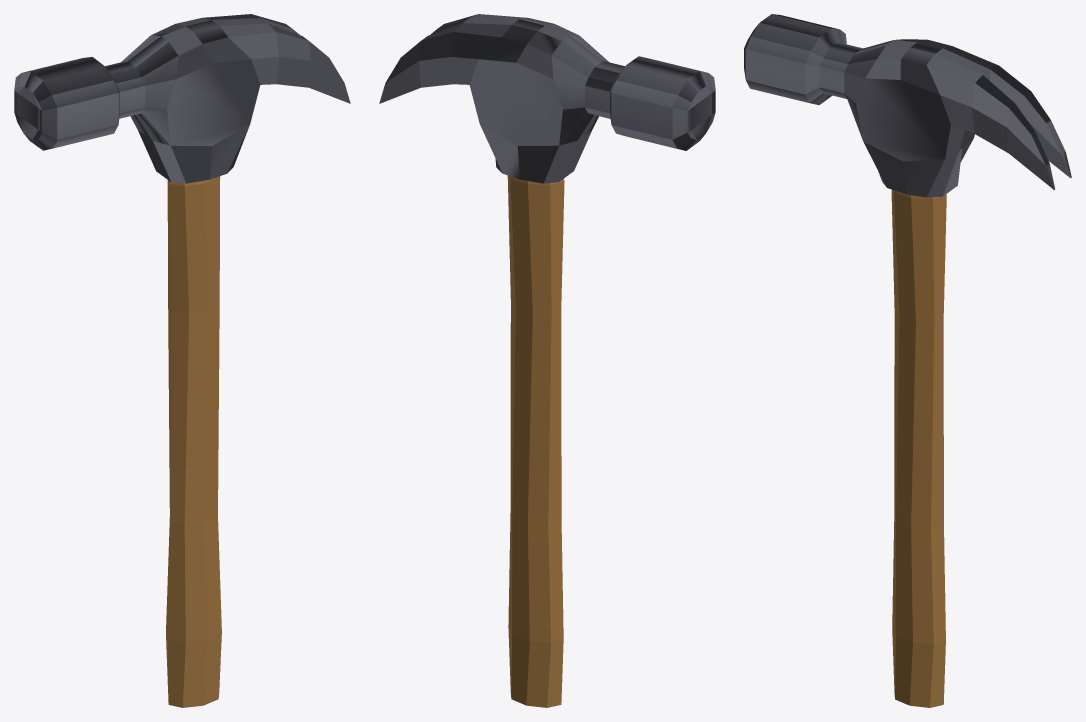
Rendered from Hammer.fbx.
3 views of the same model, side by side, from view 1: azimuth 30°, elevation 25°; view 2: azimuth 150°, elevation 25°; view 3: azimuth 330°, elevation 25° (orthographic). The views are drawn at different scales.
Visible parts, largest first — view 1: Würfel, Zylinder; view 2: Würfel, Zylinder; view 3: Würfel, Zylinder.
Boxes of the visible parts, bbox=[...] form: Würfel: bbox=[14, 14, 350, 183]; Zylinder: bbox=[166, 176, 221, 707]; Würfel: bbox=[379, 14, 715, 183]; Zylinder: bbox=[507, 175, 564, 707]; Würfel: bbox=[744, 14, 1071, 197]; Zylinder: bbox=[891, 189, 946, 707].
Size of the model in its own units: 20.03 by 40.96 by 4.61.
